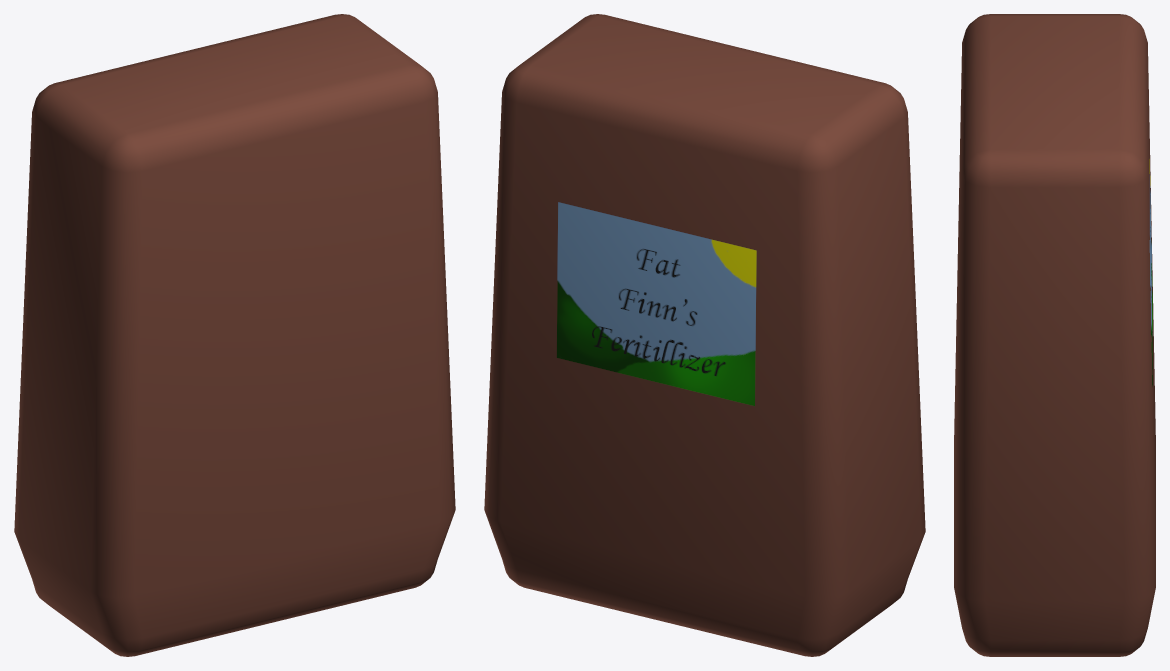
The model's file is PhosphorusObject.DAE.
3 renders of one model, left to right at view 1: azimuth 30°, elevation 25°; view 2: azimuth 150°, elevation 25°; view 3: azimuth 270°, elevation 25°, orthographic. The views are drawn at different scales.
Visible parts, largest first — view 1: ChamferBox001; view 2: ChamferBox001; view 3: ChamferBox001.
Part boxes in pixels (box(x1,y1,x2,y2)): ChamferBox001: box(14, 14, 455, 656); ChamferBox001: box(484, 14, 925, 656); ChamferBox001: box(954, 14, 1155, 656).
Size of the model in its own units: 8.56 by 4.28 by 11.81.
Materials: 1 (1 with a texture image).
